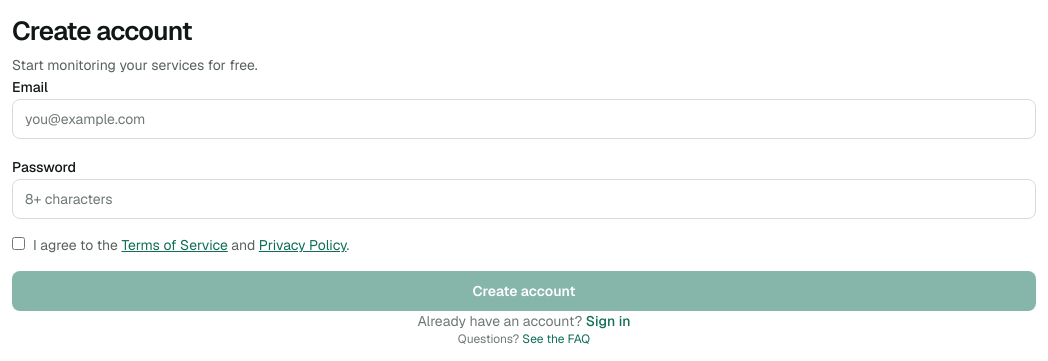
Test: SignUpView › disables the submit button until terms are accepted
The width and height of the screenshot is (1048, 361).
expect the submit button is disabled: met, box [12,271,1036,311]
What coordinates should you click on to do the following:
click the checkbox labelled "I agree to the Terms of Service and Privacy Policy."
I would click on:
 (18, 244)
Its box is [12,237,25,250].
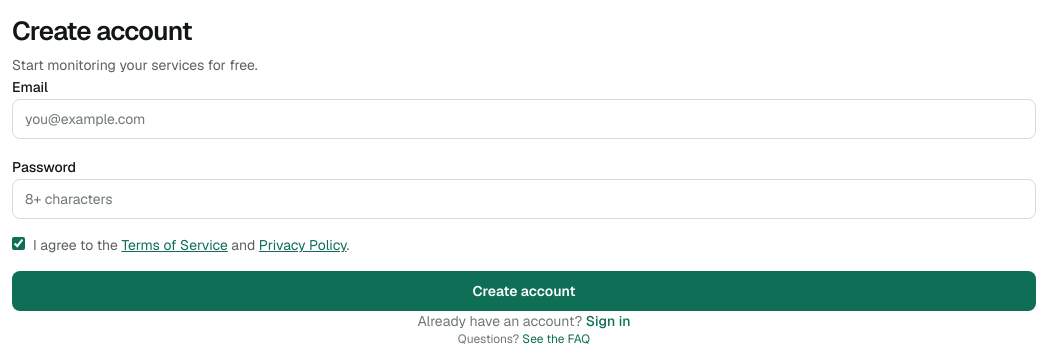
expect the submit button is enabled: met, box [12,271,1036,311]
